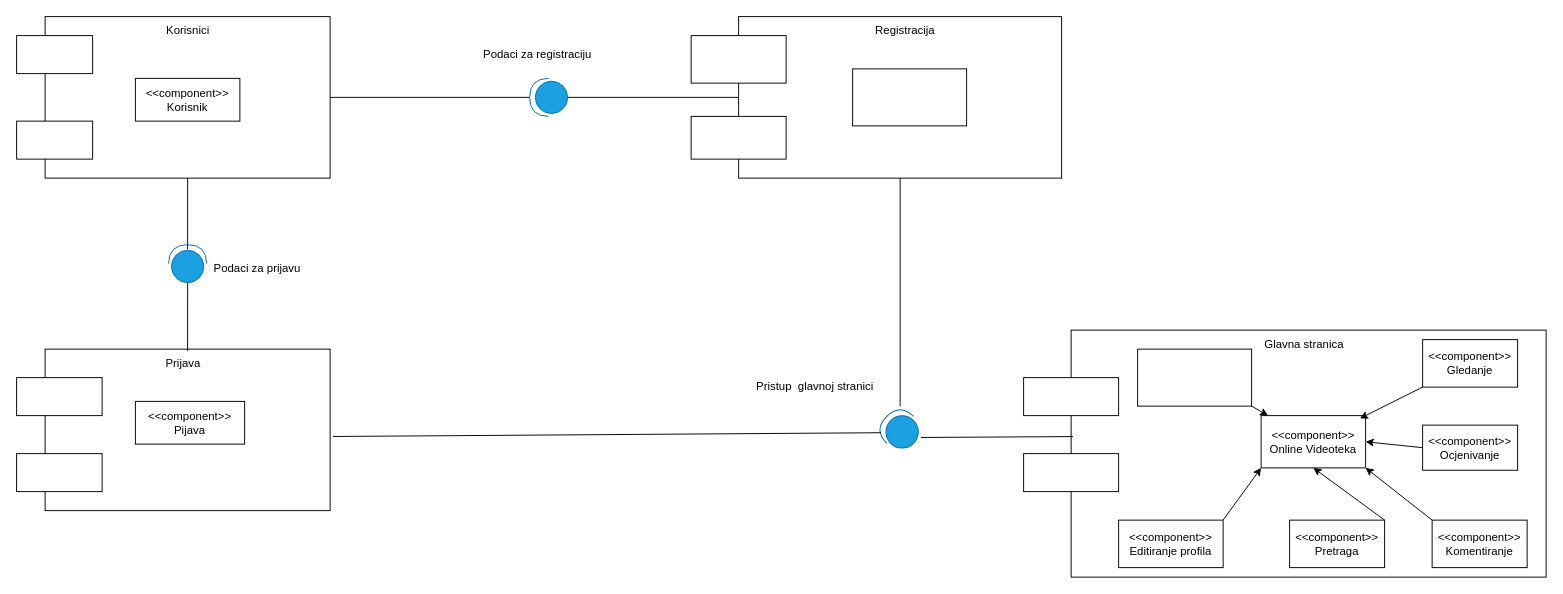
Image size: 1563x594. Some labels were removed from this diagram. The box of each missing label's shape, as (x1, y1, x2, y2) in pixels:
<<component>> Dodavanje u My List: (1137, 348, 1252, 406)
<<component>> Registracija: (852, 68, 967, 126)
